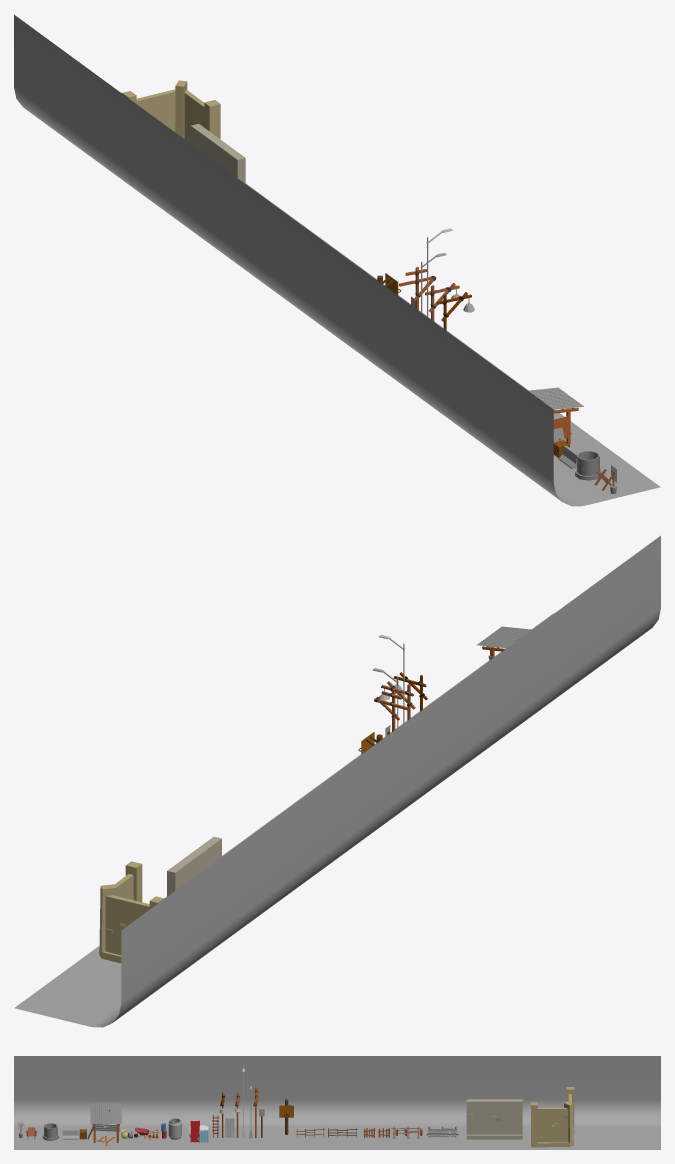
3 renders of one model, top to bottom at view 1: azimuth 30°, elevation 25°; view 2: azimuth 150°, elevation 25°; view 3: azimuth 270°, elevation 25°, orthographic. The views are drawn at different scales.
Visible parts, largest first — view 1: pPlane1, Cube.015, Cube.014, Plane.002; view 2: pPlane1, Cube.015, Cube.014, Plane.002; view 3: pPlane1, Cube.014, Cube.015, Plane.002, Plane.006, Cube.007, Cylinder.002, Plane.004, Cylinder.019, Cylinder, Plane.005, Circle.
Part boxes in pixels (x1,y1,x2,y2): pPlane1: [14, 14, 660, 506]; Cube.015: [122, 80, 220, 143]; Cube.014: [190, 123, 245, 183]; Plane.002: [528, 387, 583, 444]; pPlane1: [14, 535, 660, 1027]; Cube.015: [99, 861, 164, 963]; Cube.014: [167, 836, 221, 896]; Plane.002: [477, 626, 531, 660]; pPlane1: [14, 1056, 660, 1149]; Cube.014: [466, 1099, 522, 1139]; Cube.015: [531, 1087, 574, 1147]; Plane.002: [87, 1103, 121, 1146]; Plane.006: [190, 1120, 208, 1142]; Cube.007: [279, 1099, 293, 1134]; Cylinder.002: [168, 1118, 181, 1139]; Plane.004: [426, 1126, 458, 1137]; Cylinder.019: [42, 1123, 58, 1140]; Cylinder: [391, 1126, 422, 1138]; Plane.005: [225, 1118, 234, 1137]; Circle: [62, 1130, 78, 1139].
Bounding box in the file's own units: 753 × 822 × 6553.
